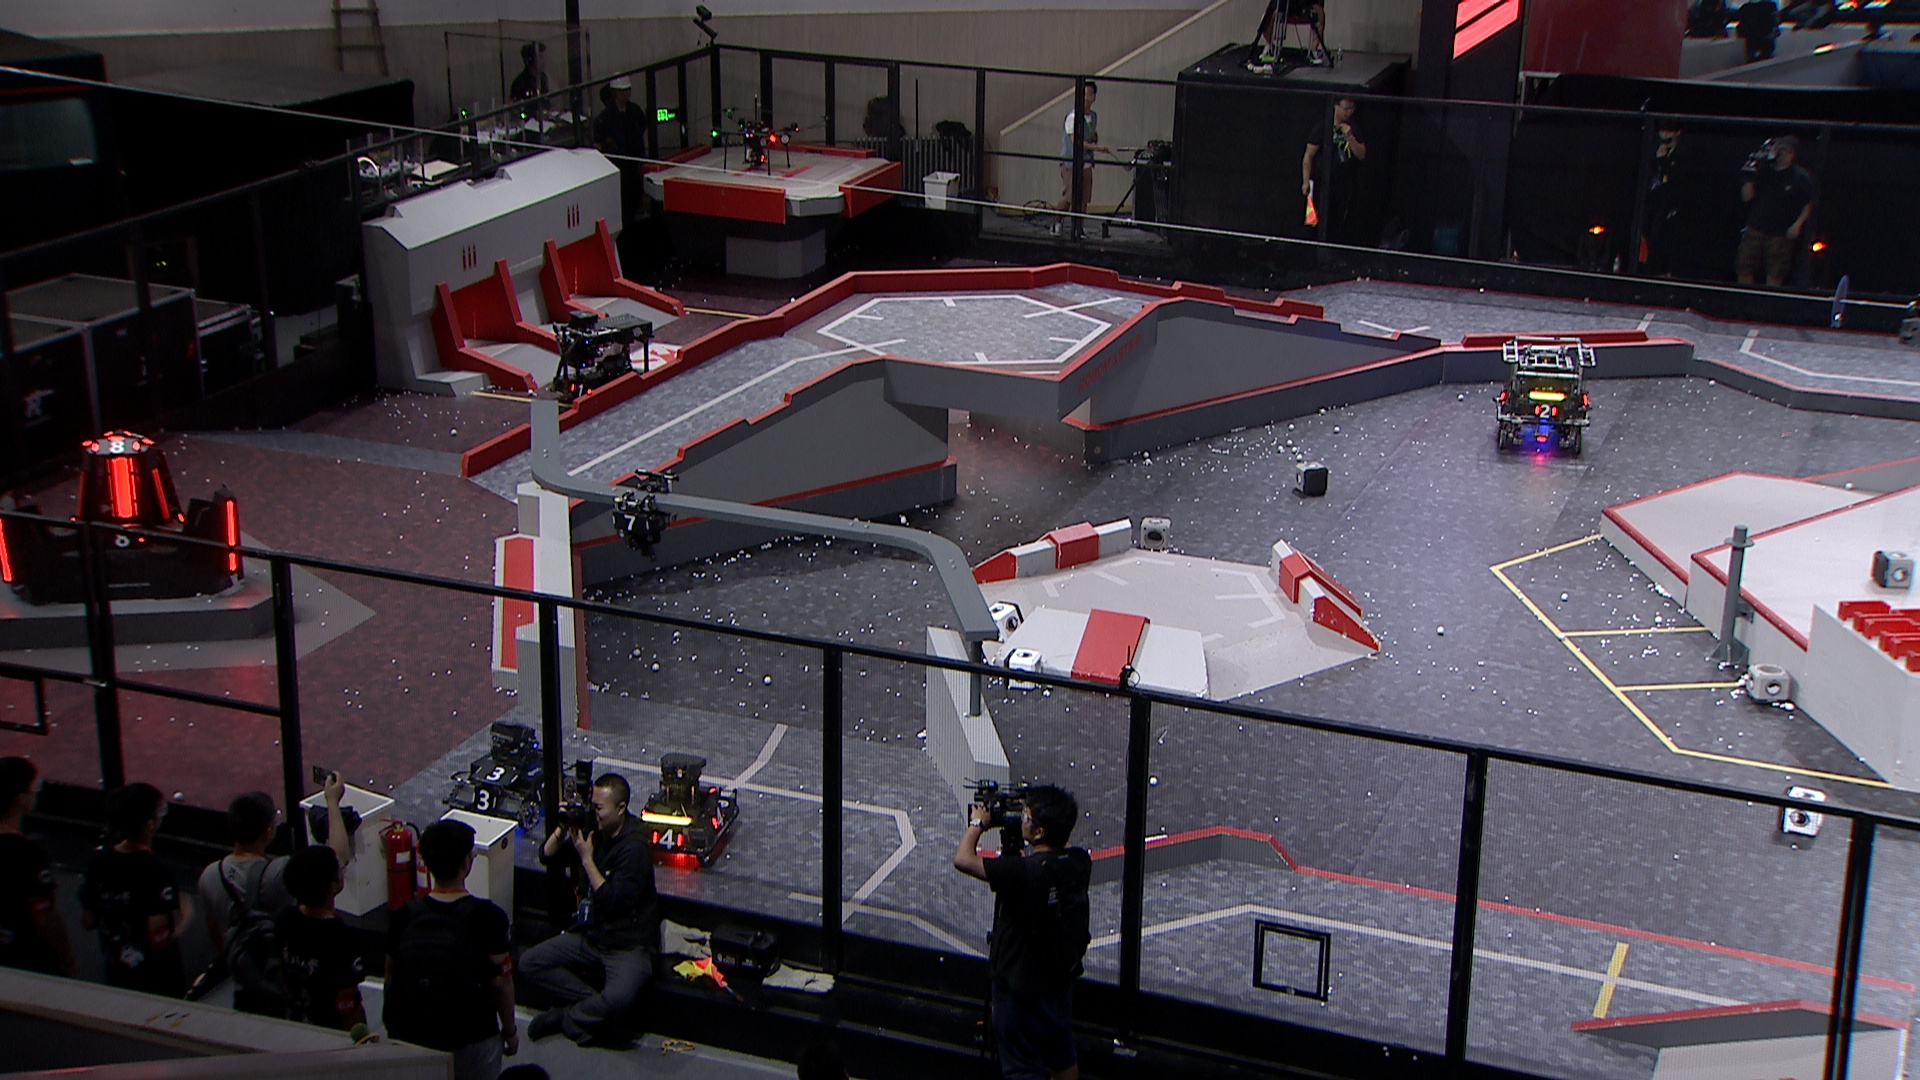armor: (102, 455, 140, 517), (222, 500, 240, 571), (150, 469, 173, 524), (472, 764, 518, 785), (90, 439, 141, 458), (105, 527, 148, 549), (467, 787, 498, 814), (611, 514, 654, 533), (651, 827, 684, 851), (74, 469, 88, 520), (1531, 404, 1560, 419), (712, 806, 731, 828), (567, 382, 593, 396)
car: (439, 717, 575, 827), (622, 749, 741, 865), (1493, 332, 1598, 455), (549, 309, 655, 411)
watcher: (607, 465, 683, 564)
